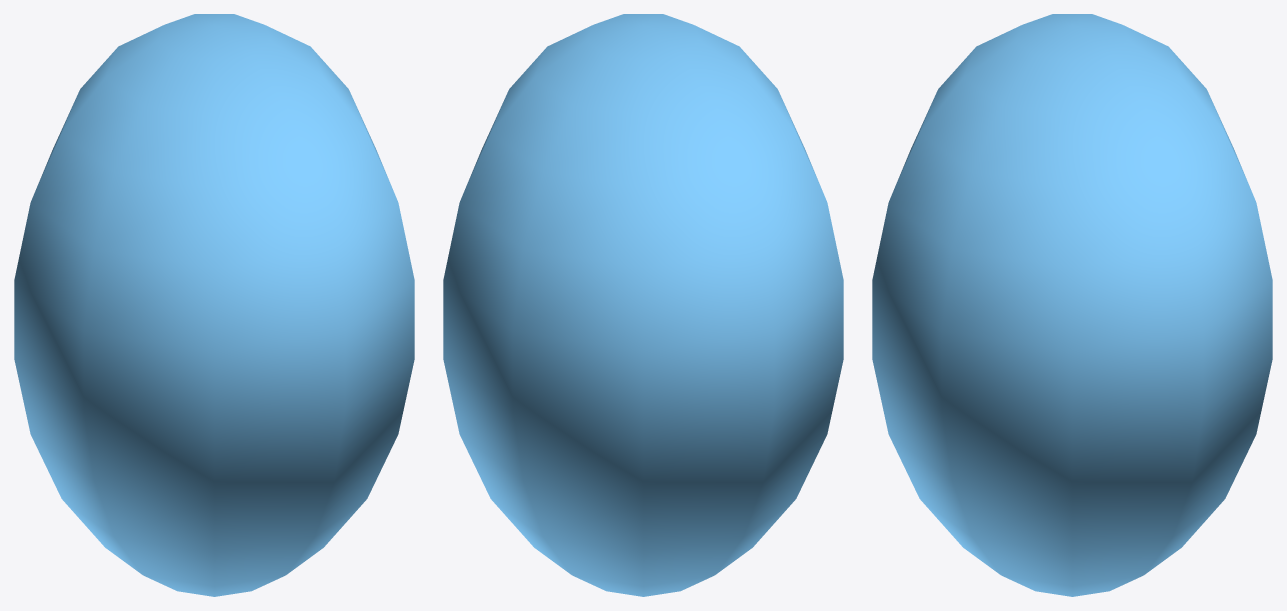
The model's file is gelifoca_stage1.obj.
The picture shows the model from 3 angles, left to right: view 1: azimuth 30°, elevation 25°; view 2: azimuth 150°, elevation 25°; view 3: azimuth 270°, elevation 25°; orthographic projection.
Size of the model in its own units: 1.34 by 2.1 by 1.36.
